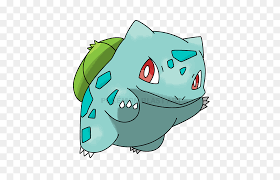bulbasaur: (63, 17, 218, 156)
